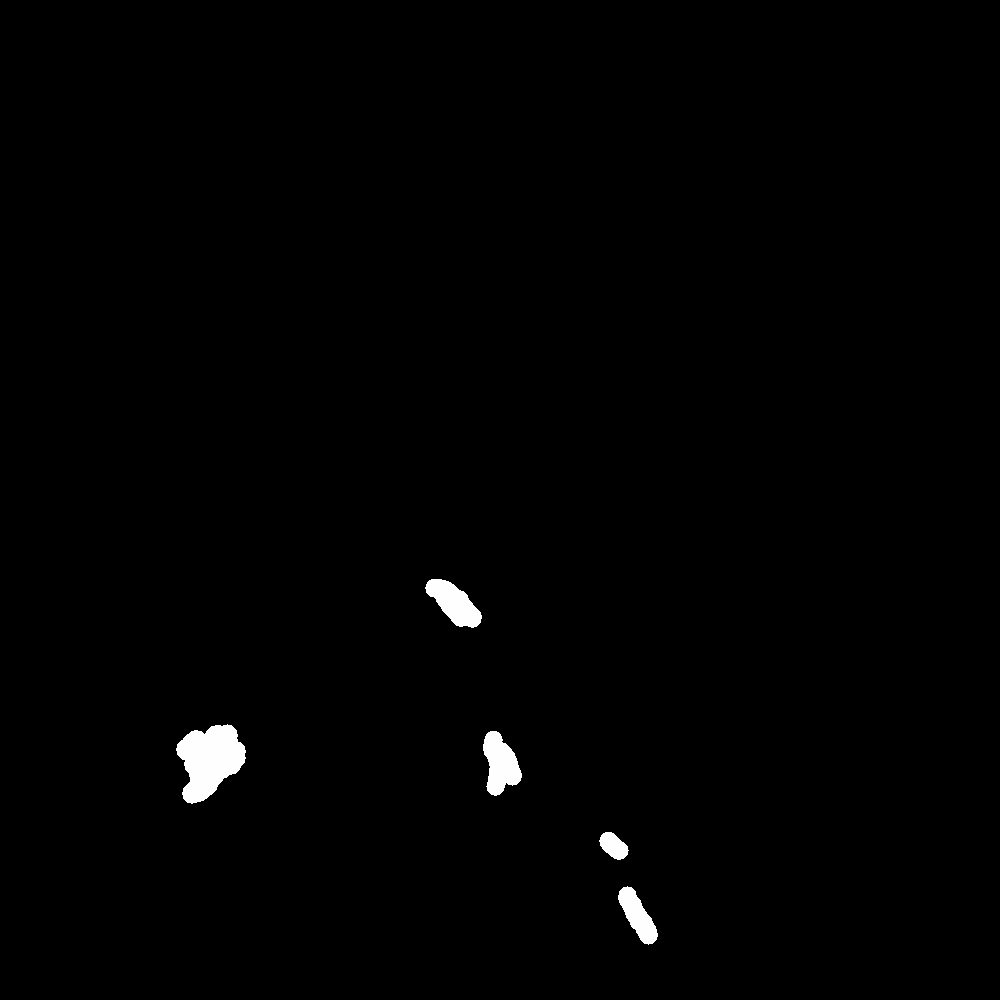illegal: (383, 568, 465, 613), (180, 729, 241, 786)
